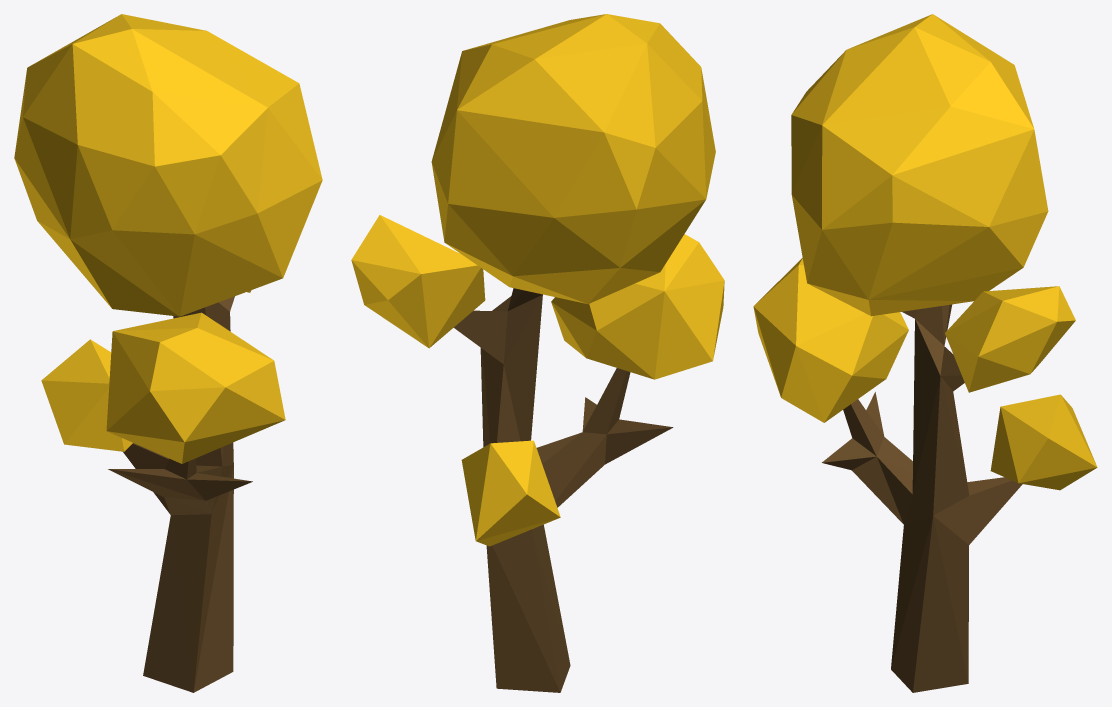
File: temp-decid.moderate.yellow-op0.4.gltf
The picture shows the model from 3 angles, left to right: view 1: azimuth 30°, elevation 25°; view 2: azimuth 150°, elevation 25°; view 3: azimuth 270°, elevation 25°; orthographic projection. The views are drawn at different scales.
Parts seen in each view (by area): view 1: Tree1_2; view 2: Tree1_2; view 3: Tree1_2.
Part boxes in pixels (x1,y1,x2,y2): Tree1_2: (14,14,322,692); Tree1_2: (351,14,724,692); Tree1_2: (753,14,1097,692).
Bounding box in the file's own units: 2.58 × 5.94 × 2.99.
Materials: 1 (1 with a texture image).
